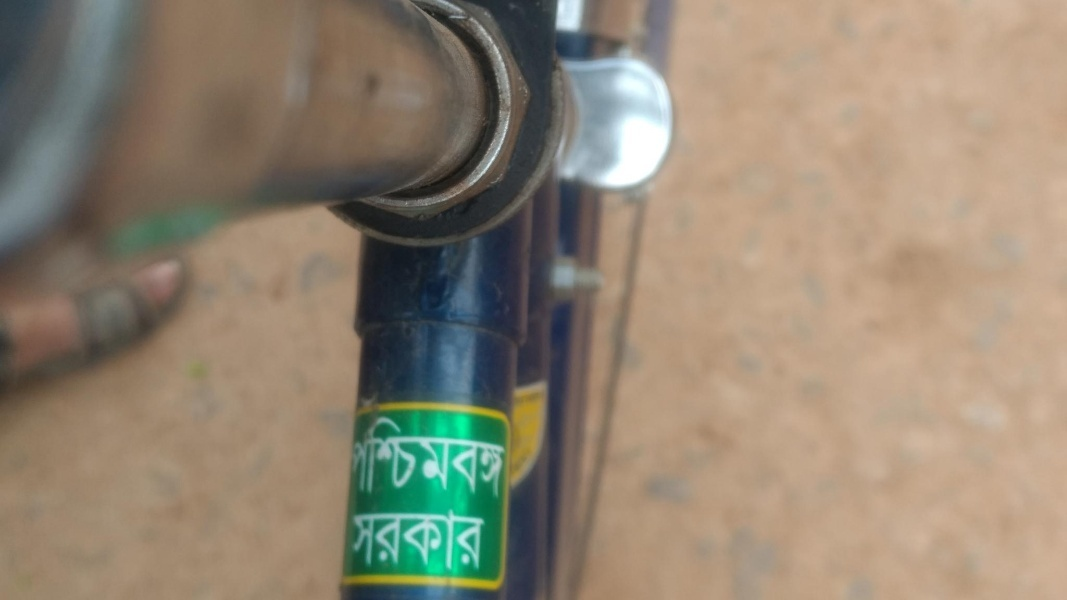text: (337, 410, 352, 499), (353, 410, 368, 499), (369, 410, 384, 499), (385, 410, 400, 499), (401, 410, 416, 499), (417, 410, 432, 499), (433, 410, 448, 499), (449, 410, 464, 499), (465, 410, 480, 499), (481, 410, 496, 499), (497, 410, 512, 499), (353, 501, 368, 573), (369, 501, 384, 573), (385, 501, 400, 573), (401, 501, 416, 573), (417, 501, 432, 573), (433, 501, 448, 573), (449, 501, 464, 573), (465, 501, 480, 573), (481, 501, 490, 573), (346, 501, 352, 573), (334, 410, 336, 499), (513, 410, 515, 499)
